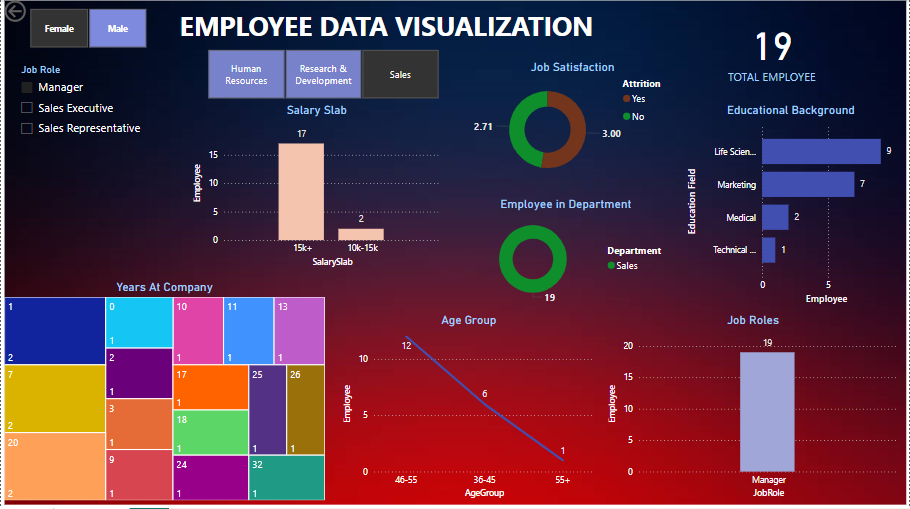

The page's visual inventory and layout, read from the dashboard file:
{"tool":"powerbi","page":{"name":"Page 1","canvas":[1280,720],"ordinal":0},"visuals":[{"type":"image","box":[0,0,1280.2,720],"z":0},{"type":"lineChart","title":"Age Group","fields":{"Y":["CountNonNull(HR_Analytics.Age)"],"Category":["HR_Analytics.AgeGroup"]},"box":[478.1,445,362.9,266.4],"z":1000},{"type":"clusteredColumnChart","title":"Salary Slab","fields":{"Category":["HR_Analytics.SalarySlab"],"Y":["CountNonNull(HR_Analytics.SalarySlab)"]},"box":[266.4,149.8,357.1,236.2],"z":2000},{"type":"treemap","title":"Years At Company ","fields":{"Group":["HR_Analytics.YearsAtCompany"],"Values":["CountNonNull(HR_Analytics.YearsAtCompany)"]},"box":[0,398.9,460.8,315.4],"z":3000},{"type":"donutChart","title":"Employee in Department","fields":{"Y":["CountNonNull(HR_Analytics.Department)"],"Category":["HR_Analytics.Department"]},"box":[639.4,282.2,312.5,155.5],"z":4000},{"type":"clusteredBarChart","title":"Educational Background","fields":{"Category":["HR_Analytics.EducationField"],"Y":["CountNonNull(HR_Analytics.EducationField)"]},"box":[961.9,149.8,301,288],"z":5000},{"type":"donutChart","title":"Job Satisfaction","fields":{"Category":["HR_Analytics.Attrition"],"Y":["Avg(HR_Analytics.JobSatisfaction)"]},"box":[659.5,89.3,292.3,177.1],"z":6000},{"type":"columnChart","title":"Job Roles","fields":{"Category":["HR_Analytics.JobRole"],"Y":["CountNonNull(HR_Analytics.JobRole)"]},"box":[851,445,417.6,266.4],"z":7000},{"type":"slicer","fields":{"Values":["HR_Analytics.Gender"]},"box":[15.8,10.1,213.1,67.7],"z":8000},{"type":"slicer","fields":{"Values":["HR_Analytics.Department"]},"box":[266.4,54.7,374.4,82.1],"z":9000},{"type":"slicer","fields":{"Values":["HR_Analytics.JobRole"]},"box":[15.8,89.3,243.4,296.6],"z":10000},{"type":"textbox","box":[246.2,0,604.8,73.4],"z":11000},{"type":"actionButton","box":[0,0,100,40],"z":12000},{"type":"card","fields":{"Values":["CountNonNull(HR_Analytics.EmpID)"]},"box":[961.9,10.1,247.7,126.7],"z":13000}]}

Visuals, with their boxes in screenshot pixels (x1, y1, x2, y2), scaled from the page's 1280x720 canvas onto the 910x509 screenshot:
image: [0, 0, 909, 508]
"Age Group" lineChart: [340, 315, 598, 503]
"Salary Slab" clusteredColumnChart: [189, 106, 443, 273]
"Years At Company " treemap: [0, 282, 328, 505]
"Employee in Department" donutChart: [455, 199, 677, 309]
"Educational Background" clusteredBarChart: [684, 106, 898, 310]
"Job Satisfaction" donutChart: [469, 63, 677, 188]
"Job Roles" columnChart: [605, 315, 902, 503]
slicer - HR_Analytics.Gender: [11, 7, 163, 55]
slicer - HR_Analytics.Department: [189, 39, 456, 97]
slicer - HR_Analytics.JobRole: [11, 63, 184, 273]
textbox: [175, 0, 605, 52]
actionButton: [0, 0, 71, 28]
card - CountNonNull(HR_Analytics.EmpID): [684, 7, 860, 97]
